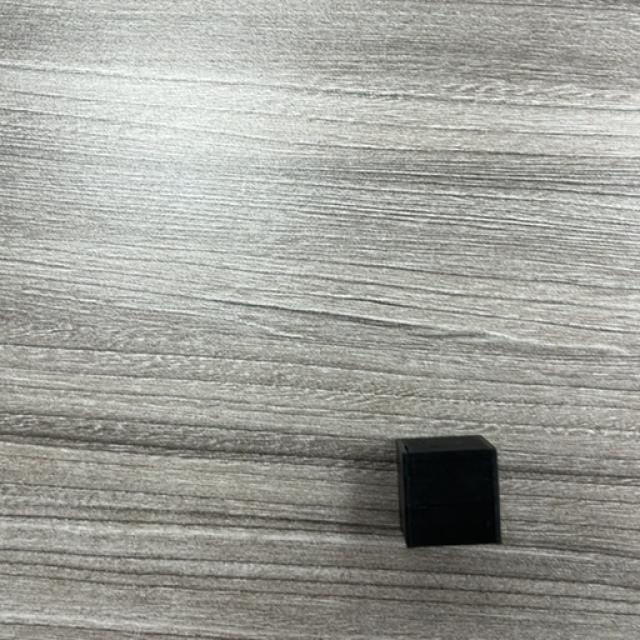Negro: (396, 435, 502, 550)
